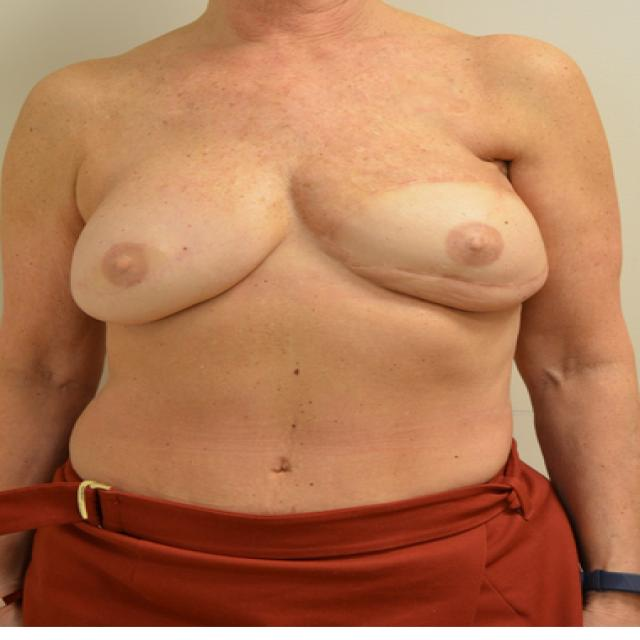Seno herido: (296, 152, 554, 324)
Seno ileso: (64, 163, 290, 338)
